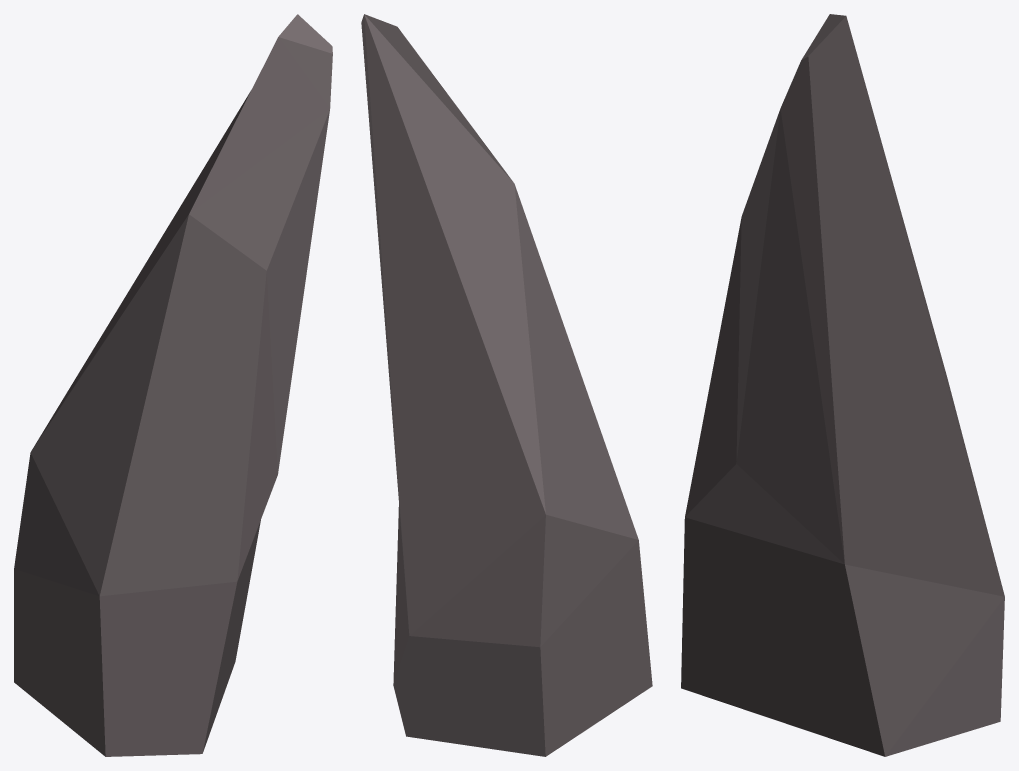
File: Rock_Sharp_m_12 2.fbx
3 views of the same model, side by side, from view 1: azimuth 30°, elevation 25°; view 2: azimuth 150°, elevation 25°; view 3: azimuth 270°, elevation 25° (orthographic). The views are drawn at different scales.
Visible parts, largest first — view 1: Rock_Sharp_m_12; view 2: Rock_Sharp_m_12; view 3: Rock_Sharp_m_12.
Part boxes in pixels (left/top/right/bottom): Rock_Sharp_m_12: left=14, top=14, right=332, bottom=756; Rock_Sharp_m_12: left=361, top=14, right=652, bottom=756; Rock_Sharp_m_12: left=681, top=14, right=1004, bottom=756.
Size of the model in its own units: 82.43 by 197 by 75.41.
